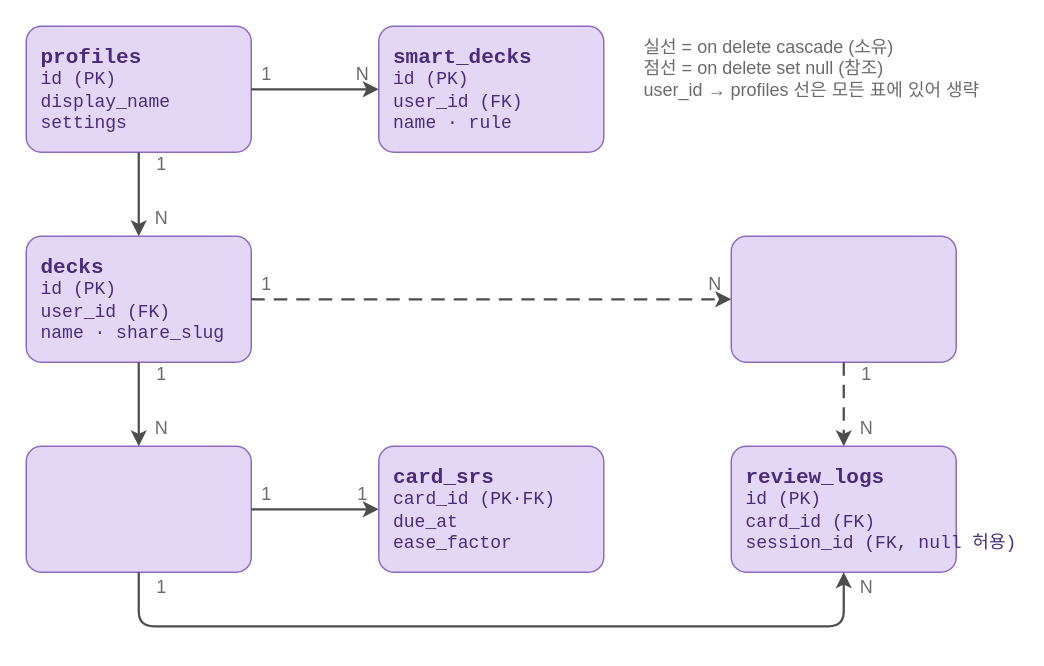
This 1044x666 diagram has some shape labels left out. Here are the shapes that lost their labels. From the top down, the centre of each, then its label:
At point (843, 298): "study_sessions id (PK) deck_id (FK, null 허용) mode · direction".
At point (138, 508): "cards id (PK) deck_id (FK) text · meaning".
